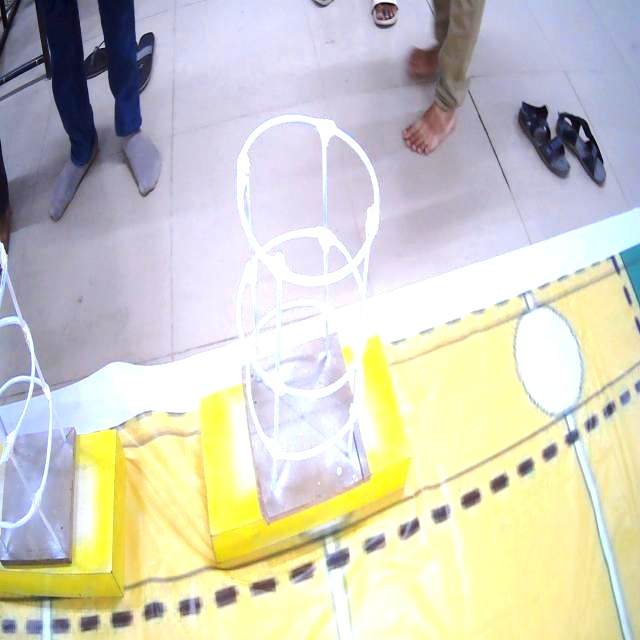silo: (234, 115, 376, 498), (1, 234, 76, 567)
